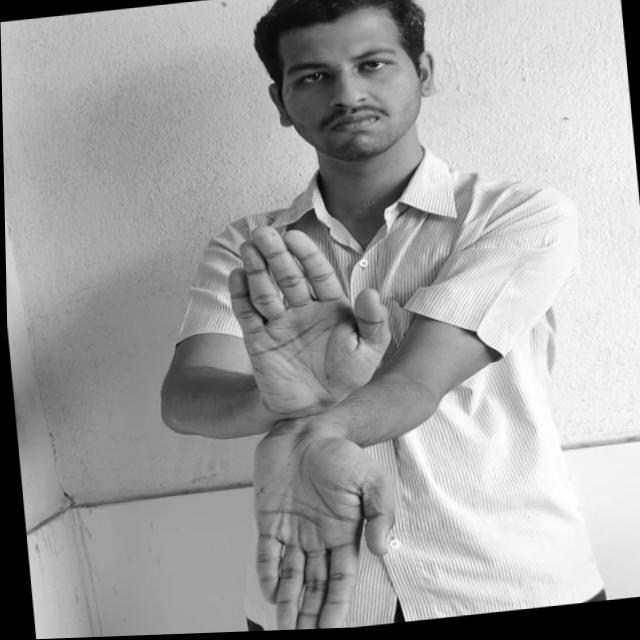Morning: (217, 215, 410, 634)
